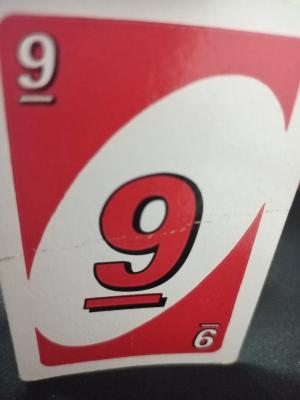num_9: (81, 166, 205, 315), (8, 22, 64, 111), (187, 319, 226, 358)
